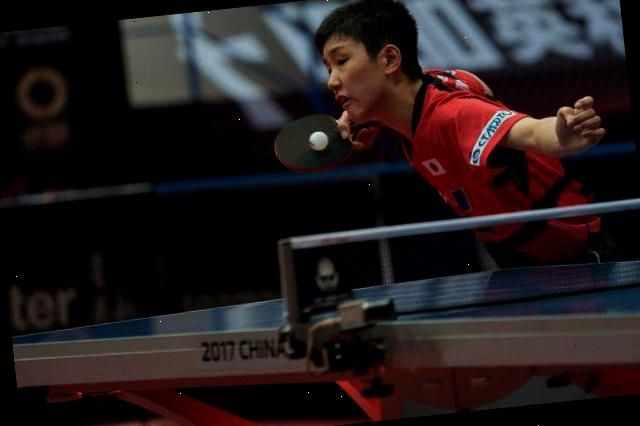ball: (304, 127, 330, 152)
